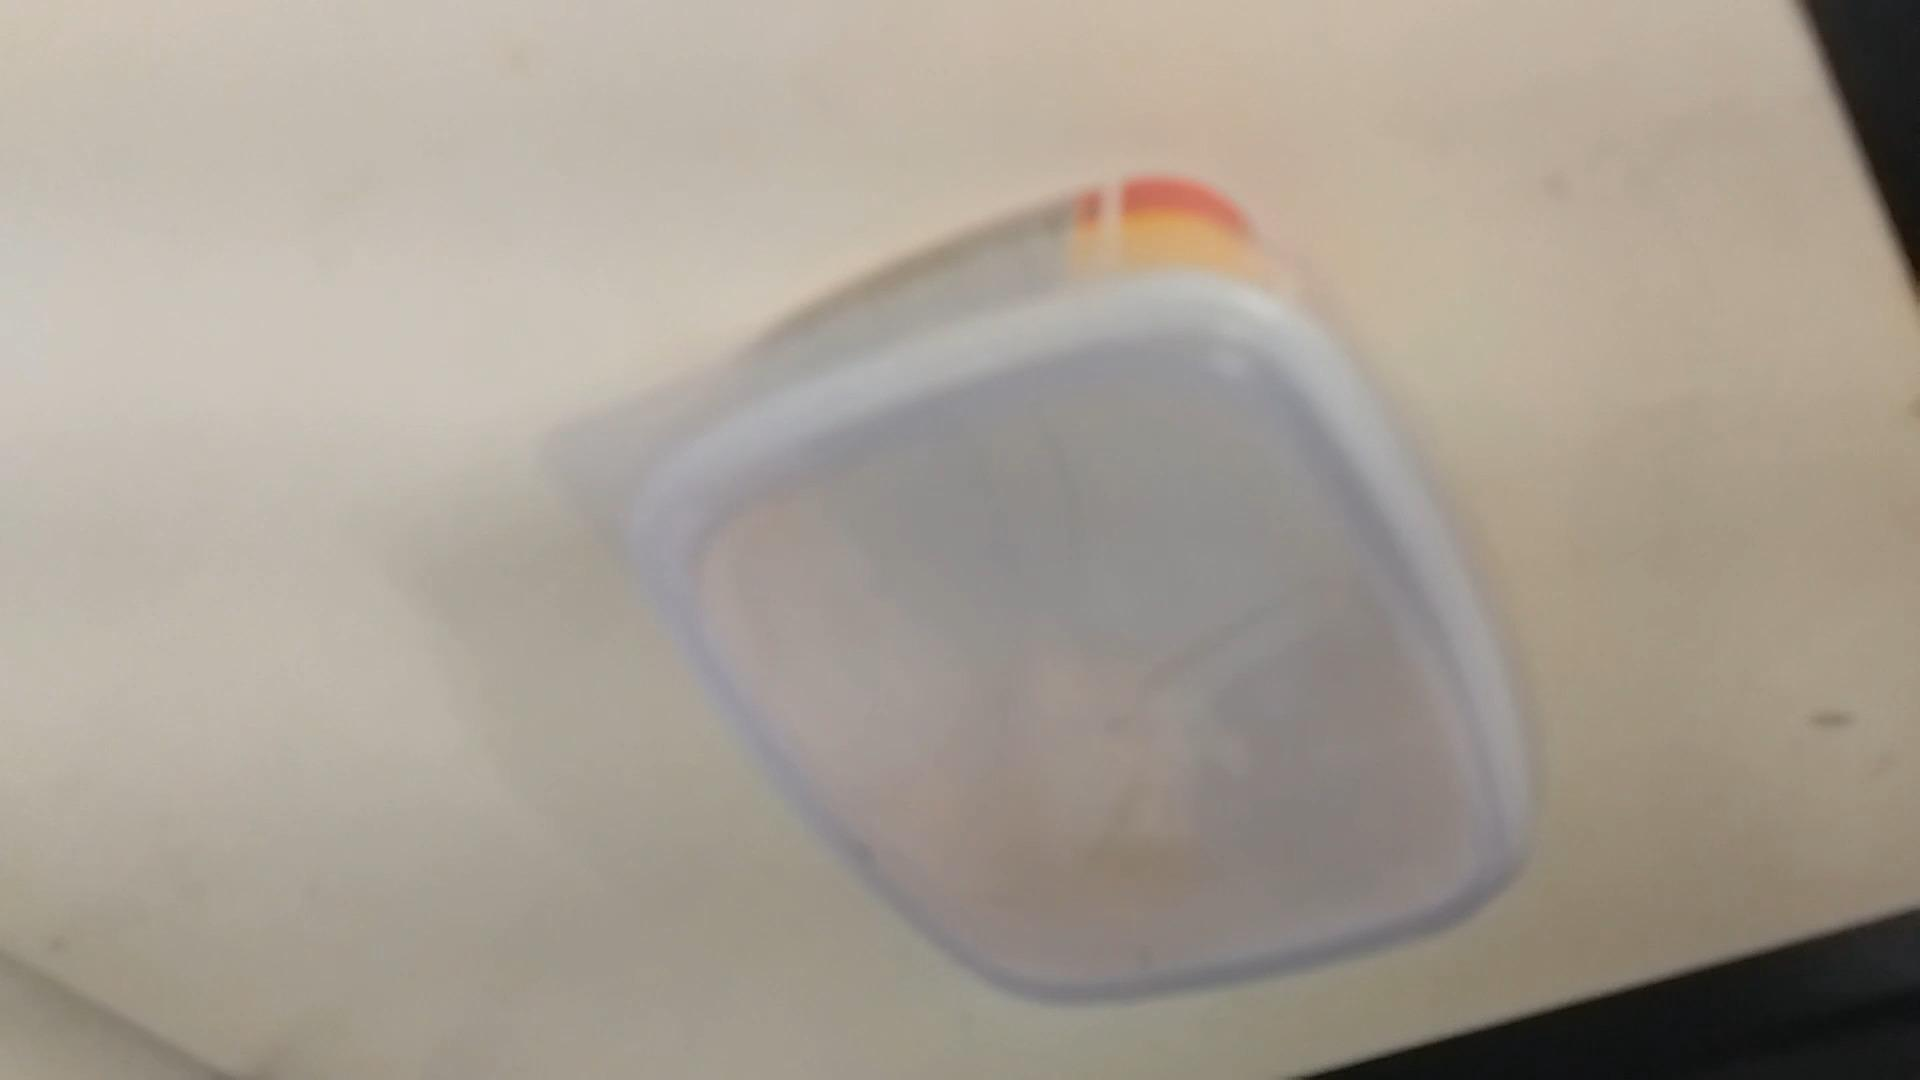butter: (587, 189, 1532, 1009)
